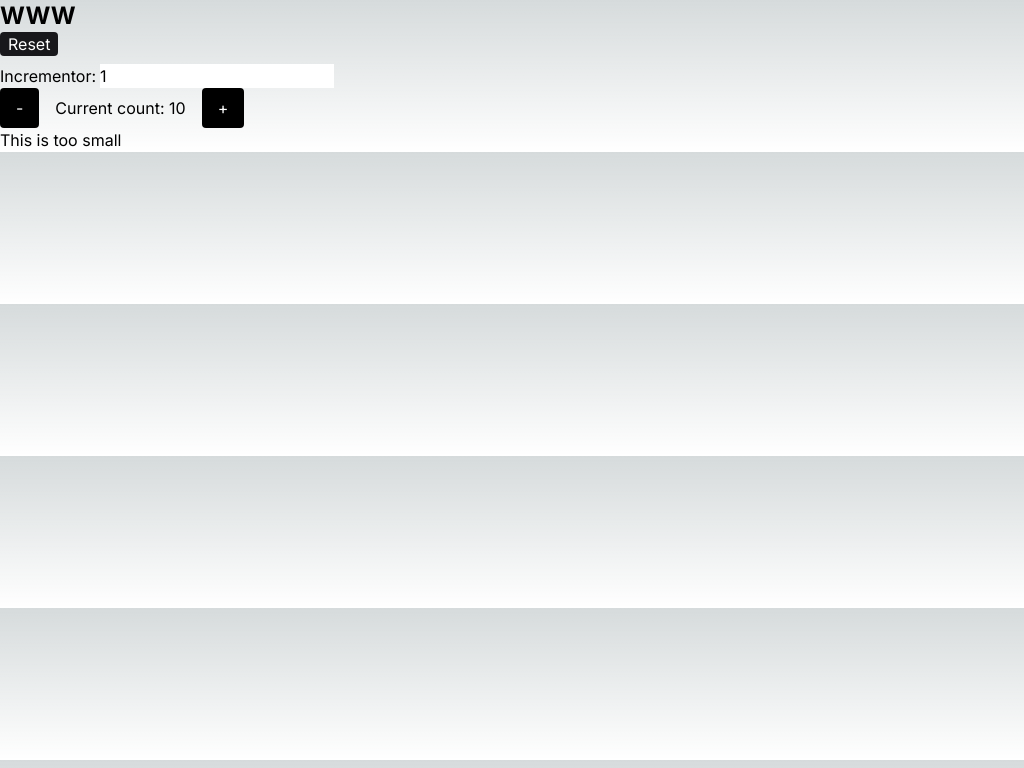
Counter Component › defaultCounter = 10, description="WWW" › When the incrementor is change to 5 and the + button is clicked › Current count will be: Current count: 15
Replace the text in the number field named "inc-input" with "5" at point(217, 76), box 100,64 -> 334,88
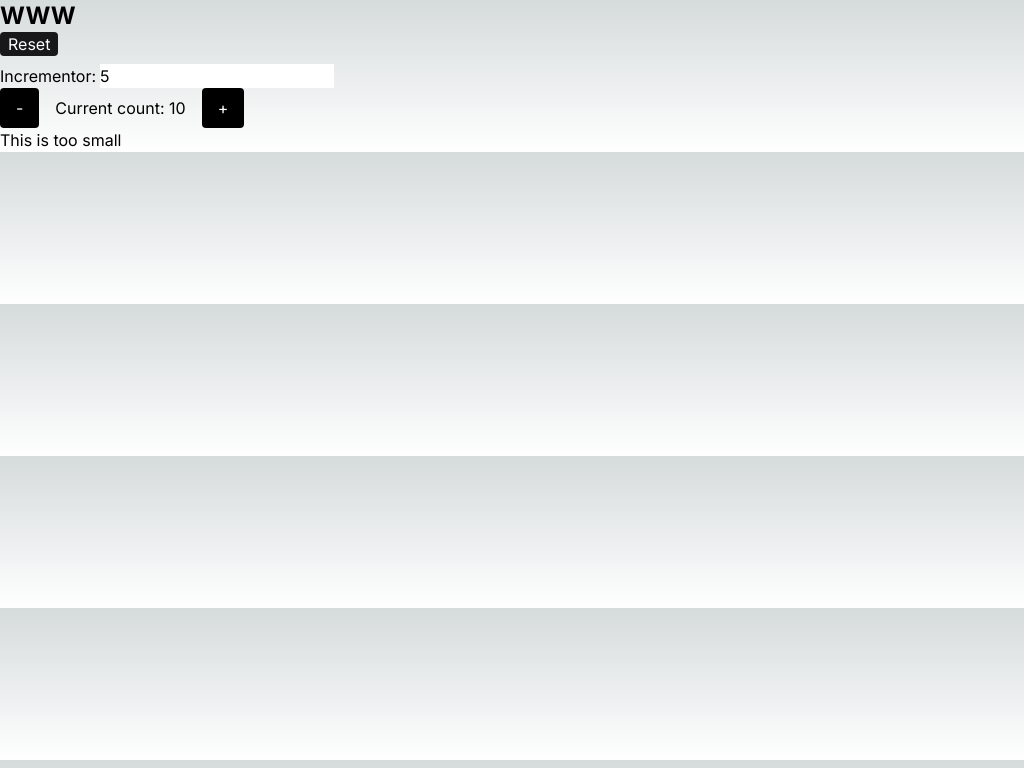
Click the button named "increment" at point(223, 108), box 202,88 -> 244,128
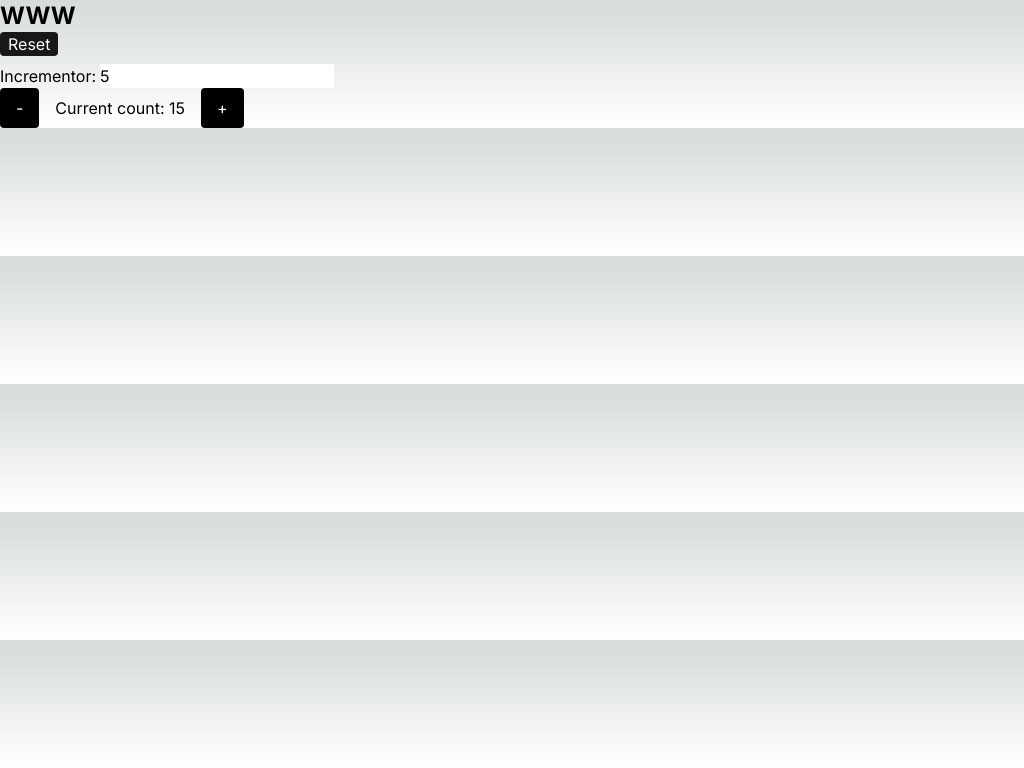
expect the text "This is too small" is gone: met
expect the text "Current count: 15" is shown: met, box 55,96 -> 185,120
